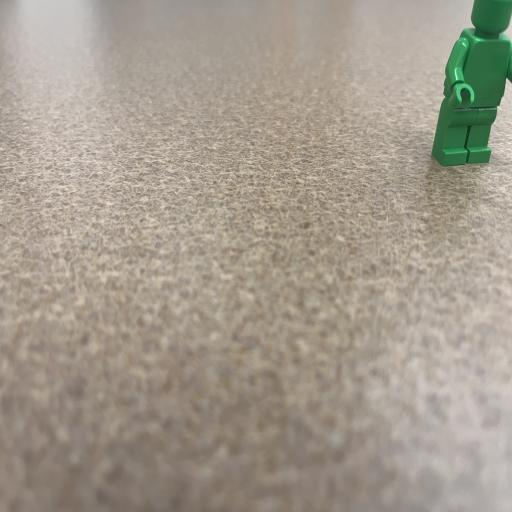Lego-Minifig: (432, 0, 512, 166)
